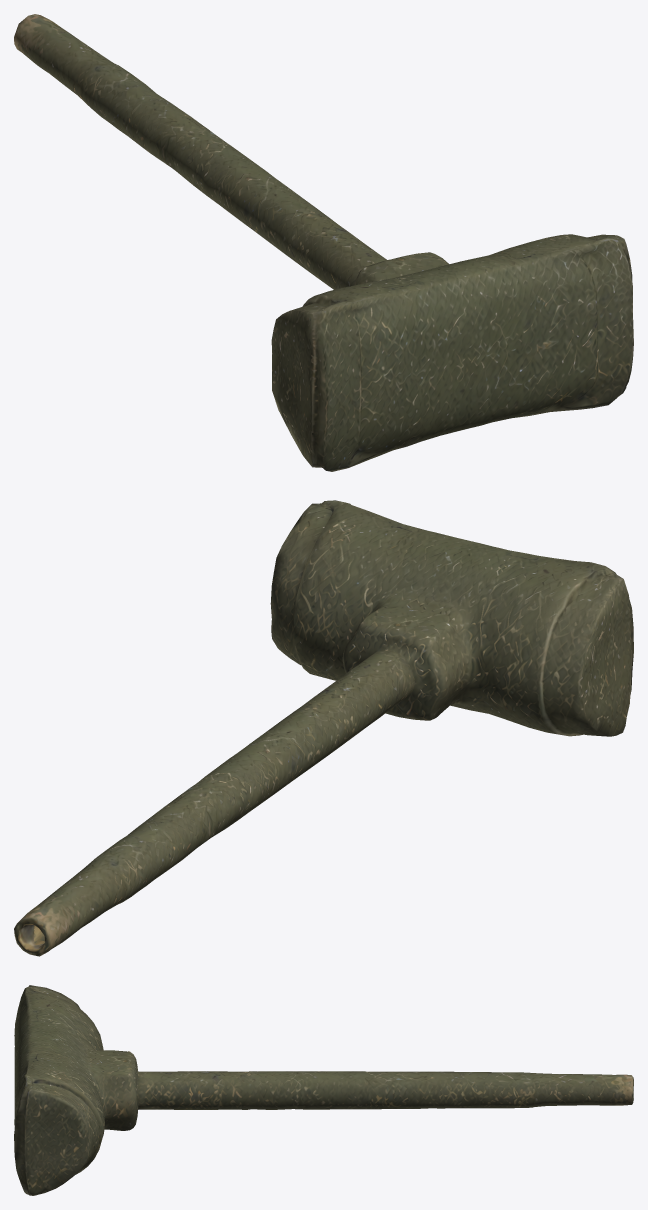
The model's file is SM_VH_T34_85_Gun_Varco.fbx.
The picture shows the model from 3 angles, top to bottom: view 1: azimuth 30°, elevation 25°; view 2: azimuth 150°, elevation 25°; view 3: azimuth 270°, elevation 25°; orthographic projection. The views are drawn at different scales.
Parts seen in each view (by area): view 1: texture_mapping; view 2: texture_mapping; view 3: texture_mapping.
Part boxes in pixels (box(x1,y1,x2,y2)): texture_mapping: box(14, 14, 633, 471); texture_mapping: box(14, 500, 633, 956); texture_mapping: box(14, 985, 633, 1195).
Size of the model in its own units: 0.4107 by 0.9978 by 0.2047.
Materials: 1 (1 with a texture image).
